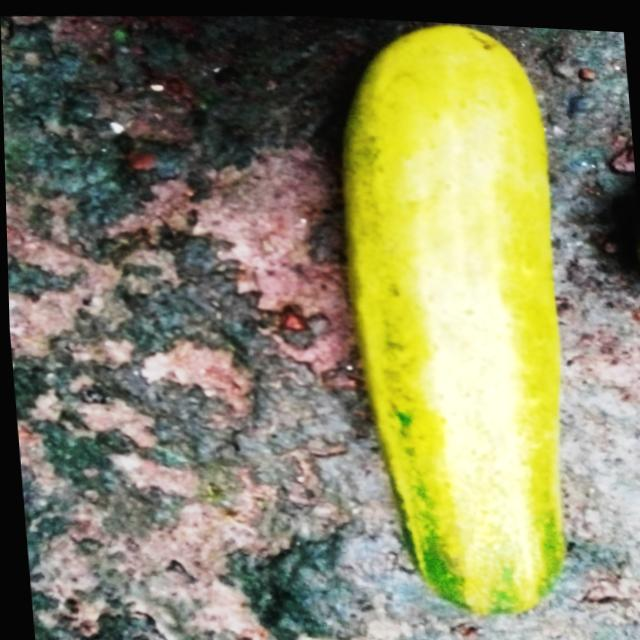Fresh-Cucumber: (325, 13, 586, 623)
